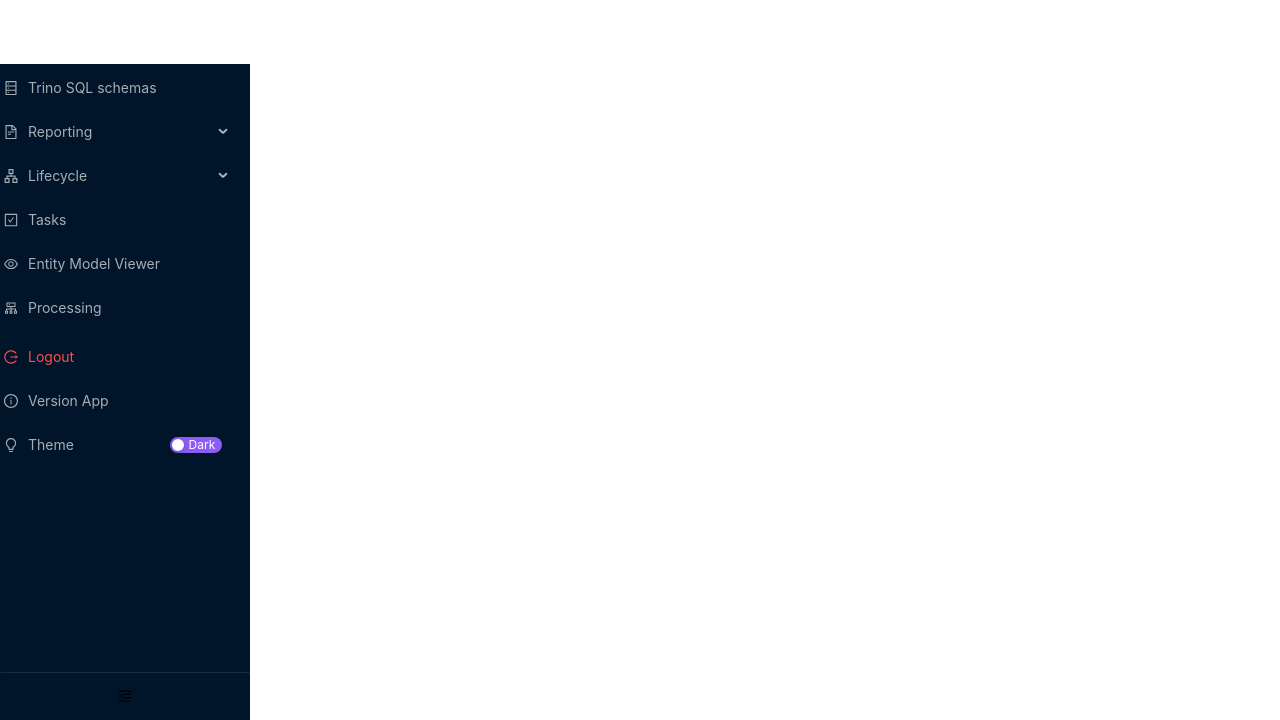
it: LeftSideMenu › Logout Modal › should open logout modal when clicking logout menu item
Click the menu item "Logout". click: (39, 356)
box: [4,348,74,365]
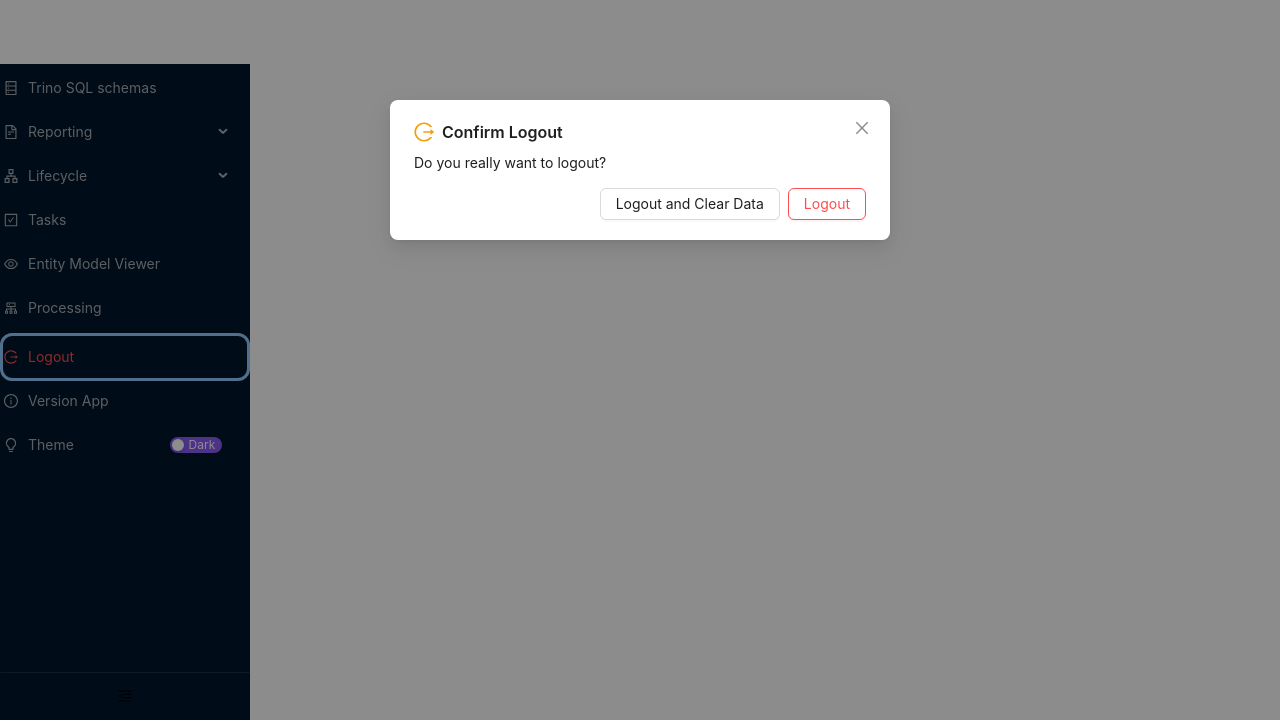
Expected: the text "Confirm Logout" is shown, [442,120,563,144]
Expected: the text "Do you really want to logout?" is shown, [414,154,606,171]
